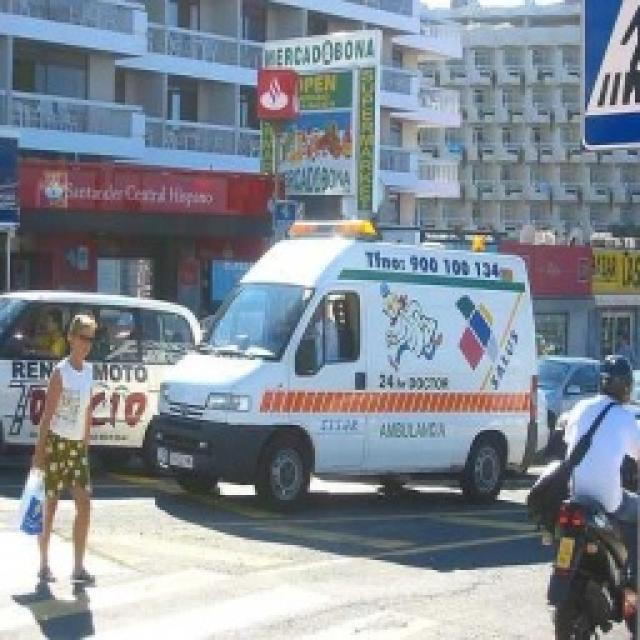emergency-vehicle: (152, 230, 542, 509)
